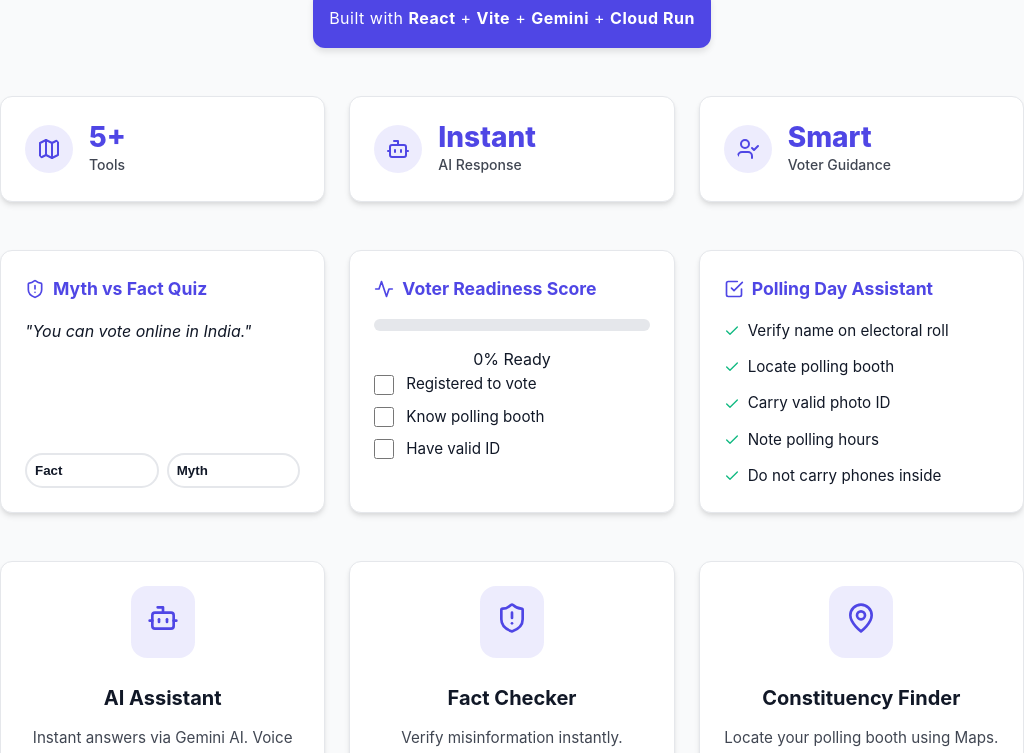
it: Home Component Integration › ReadinessWidget updates score properly based on checkbox states
The image size is (1024, 753).
(page scrolled)
Check: the text "0% Ready" is shown, box [473,349,551,369]
Step 1. Click the checkbox labelled "Registered to vote" → point(384, 385), box [374,375,394,395]
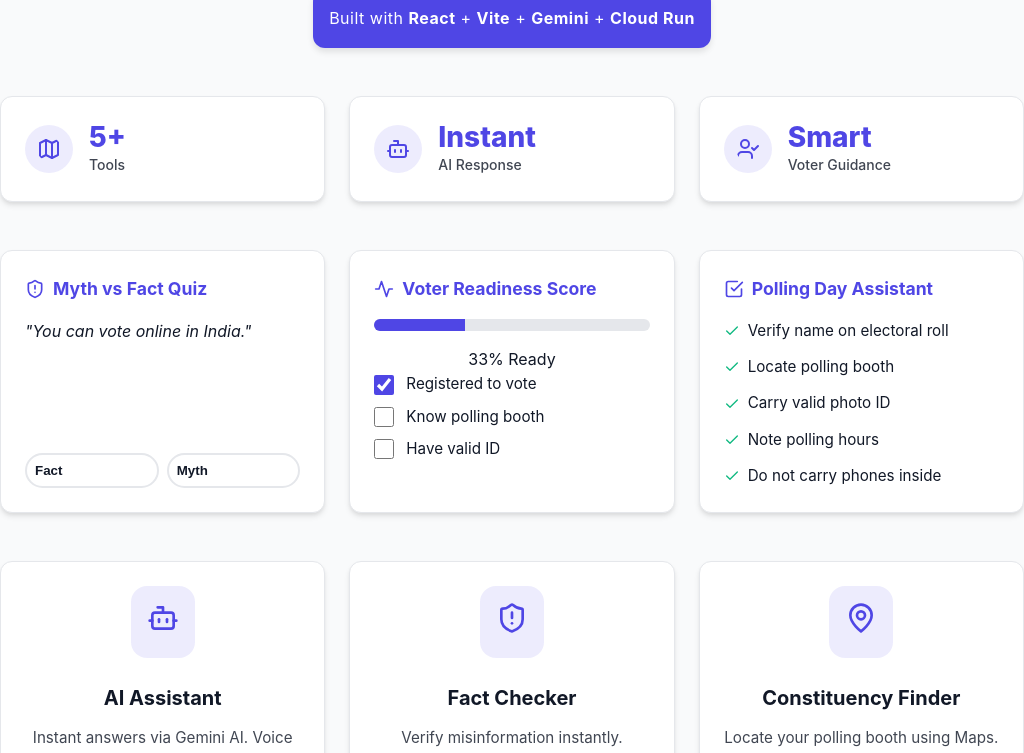
Check: the text "33% Ready" is shown, box [468,349,556,369]
Step 2. Click the checkbox labelled "Know polling booth" → point(384, 417), box [374,407,394,427]
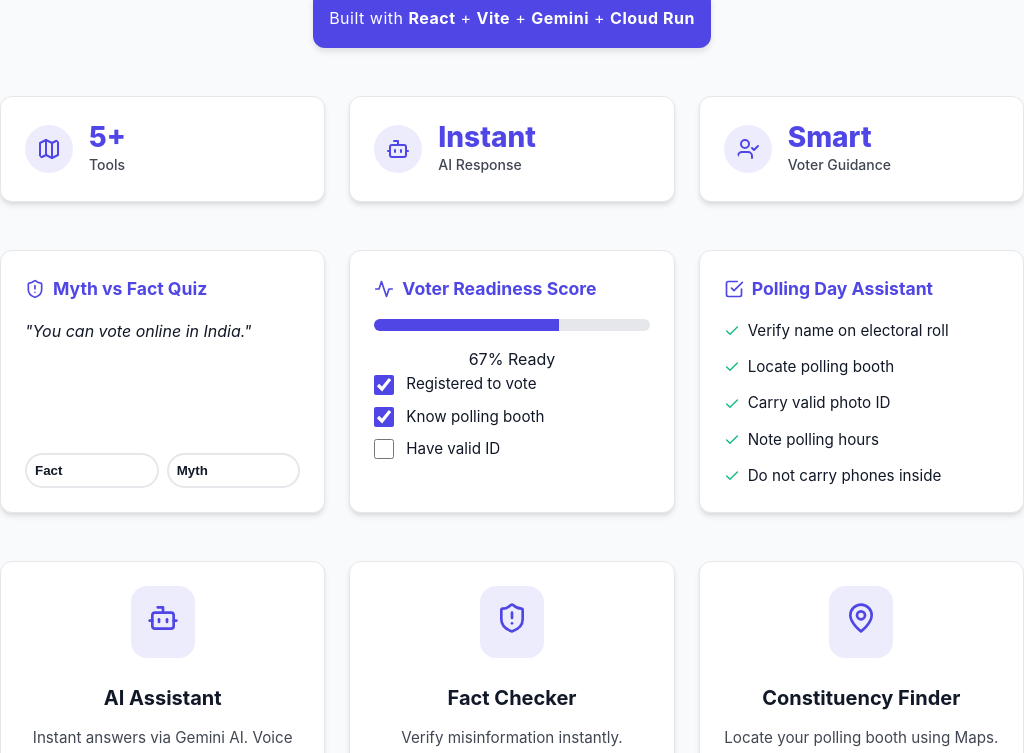
Check: the text "67% Ready" is shown, box [469,349,555,369]
